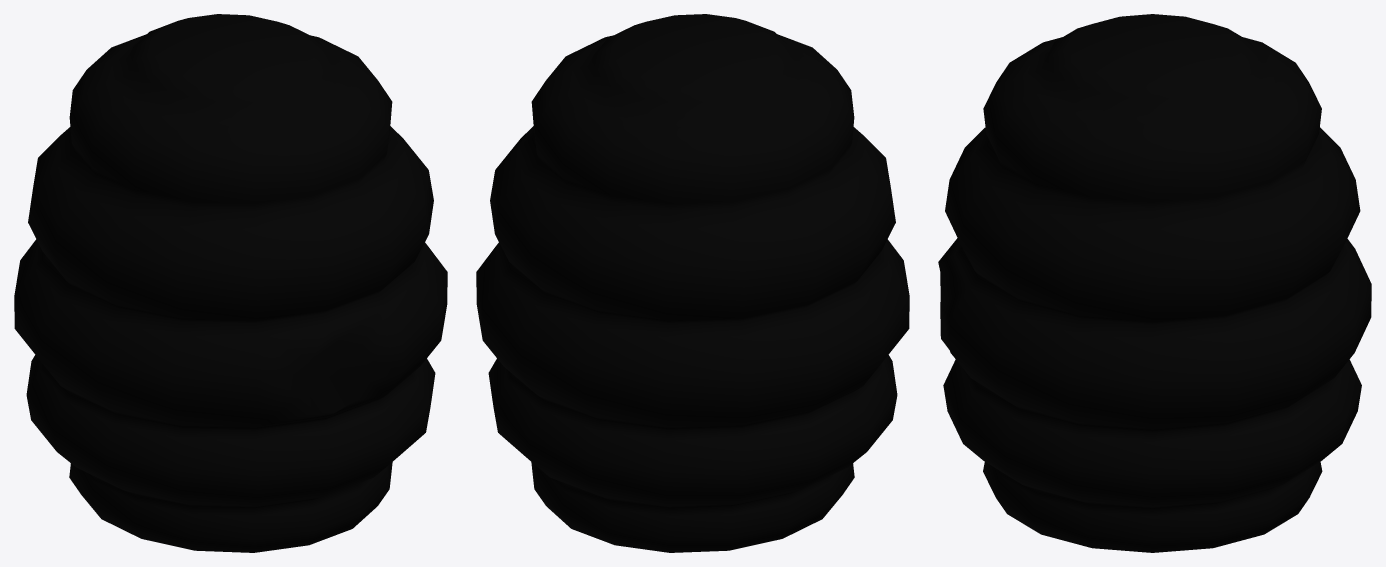
The model's file is item_beehive.fbx.
The picture shows the model from 3 angles, left to right: view 1: azimuth 30°, elevation 25°; view 2: azimuth 150°, elevation 25°; view 3: azimuth 270°, elevation 25°; orthographic projection.
Visible parts, largest first — view 1: item_beehive; view 2: item_beehive; view 3: item_beehive.
Boxes of the visible parts, box(x1,y1,x2,y2) form: item_beehive: box(14, 14, 447, 552); item_beehive: box(476, 14, 909, 552); item_beehive: box(938, 14, 1371, 552).
Bounding box in the file's own units: 1.56 × 1.87 × 1.53.
Materials: 1 (1 with a texture image).
